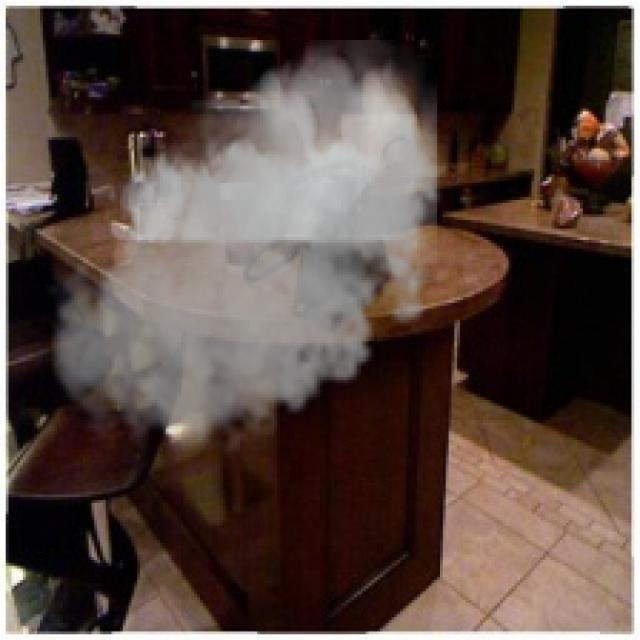Smoke: (42, 40, 454, 466)
